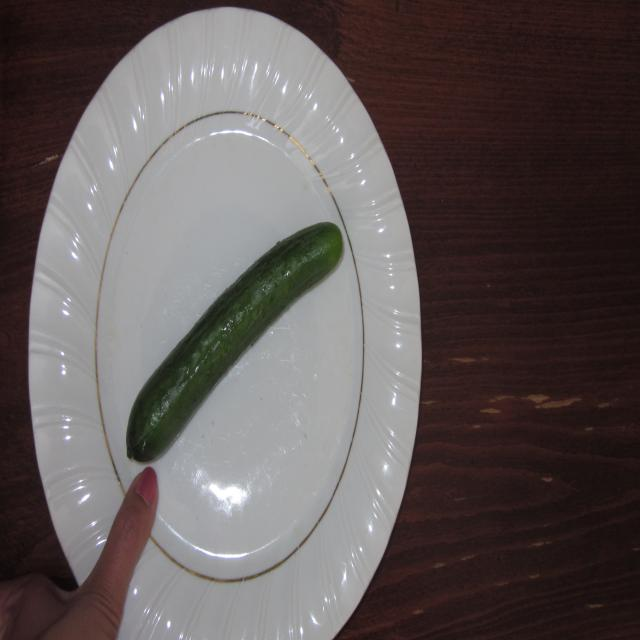cucumber: (126, 219, 351, 459)
